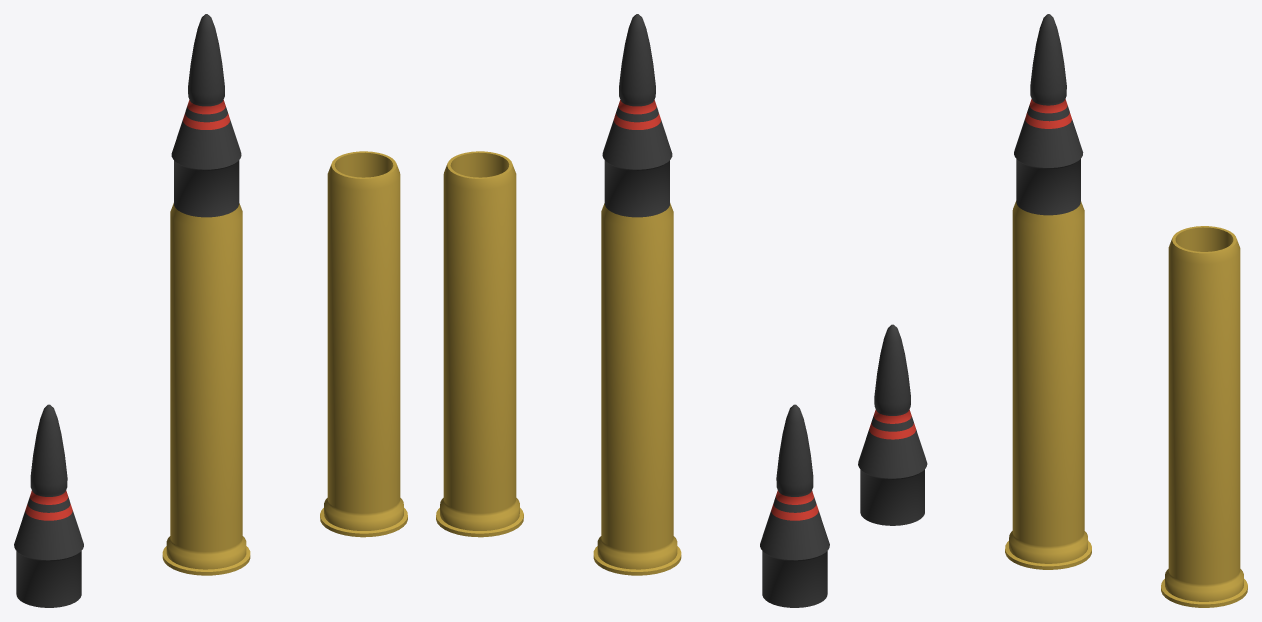
Rendered from tank_ammo.fbx.
3 renders of one model, left to right at view 1: azimuth 30°, elevation 25°; view 2: azimuth 150°, elevation 25°; view 3: azimuth 330°, elevation 25°, orthographic.
Parts seen in each view (by area): view 1: Ammo, Body, Head; view 2: Ammo, Body, Head; view 3: Ammo, Body, Head.
Boxes of the visible parts, x1=… form: Ammo: x1=162, y1=14, x2=250, y2=575; Body: x1=320, y1=151, x2=407, y2=537; Head: x1=14, y1=404, x2=83, y2=607; Ammo: x1=593, y1=14, x2=681, y2=575; Body: x1=436, y1=151, x2=523, y2=537; Head: x1=760, y1=404, x2=829, y2=607; Ammo: x1=1005, y1=14, x2=1091, y2=569; Body: x1=1161, y1=226, x2=1247, y2=607; Head: x1=858, y1=324, x2=927, y2=525.
Bounding box in the file's own units: 1217 × 1645 × 242.
